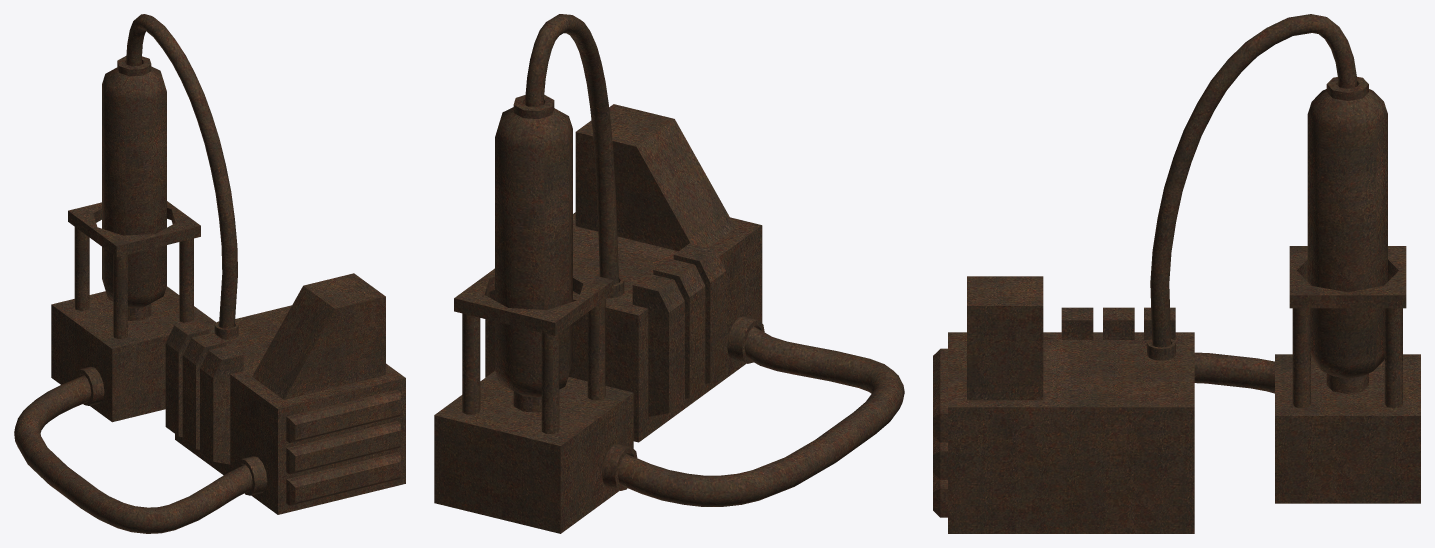
File: test_machine_mx_1.obj
3 views of the same model, side by side, from view 1: azimuth 30°, elevation 25°; view 2: azimuth 150°, elevation 25°; view 3: azimuth 270°, elevation 25° (orthographic). The views are drawn at different scales.
Visible parts, largest first — view 1: test_machine_mx_1; view 2: test_machine_mx_1; view 3: test_machine_mx_1.
Part boxes in pixels (x1,y1,x2,y2): test_machine_mx_1: (14,14,405,533); test_machine_mx_1: (434,14,904,533); test_machine_mx_1: (933,14,1420,533).
Bounding box in the file's own units: 2.66 × 3.52 × 3.4.
